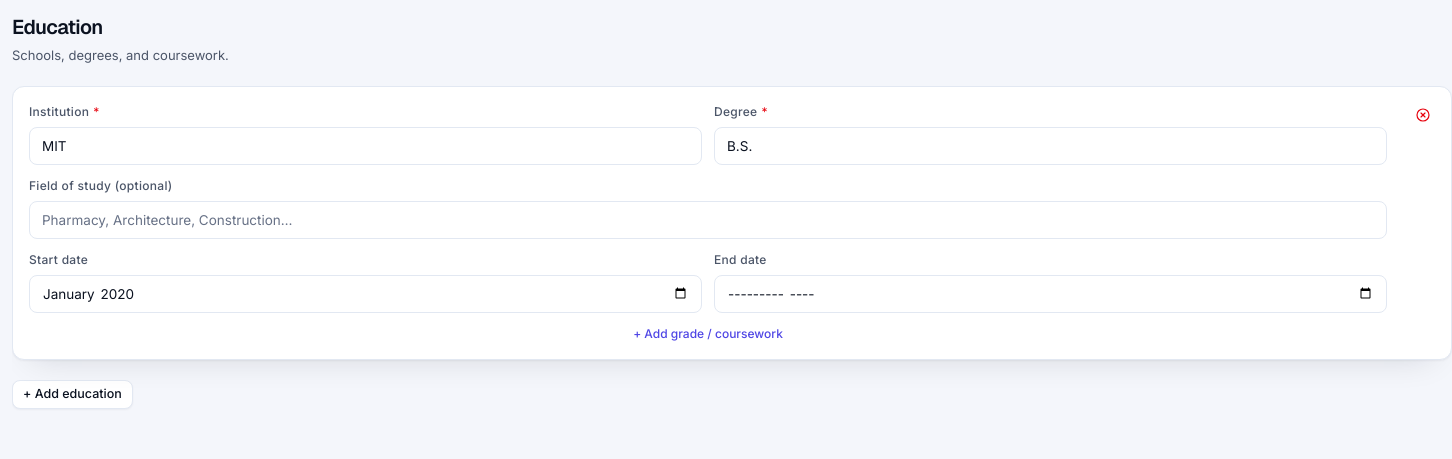
Test: EducationForm › offers field-of-study suggestions across industries
The width and height of the screenshot is (1452, 459).
Click the dropdown with placeholder "Pharmacy, Architecture, Construction…" at (708, 220), box [29,201,1387,239]
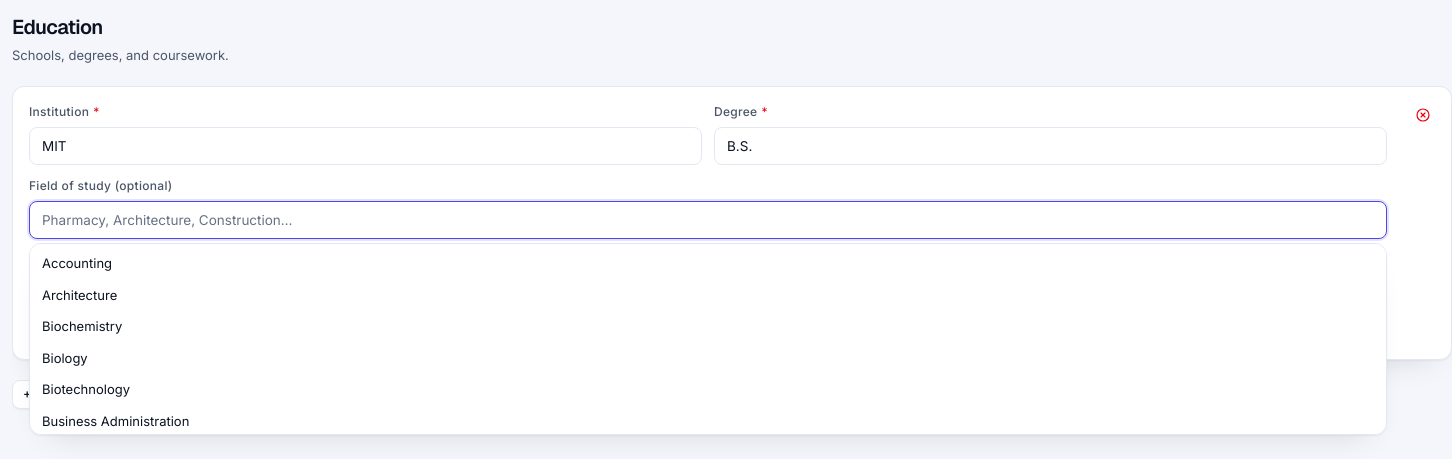
Result: the option "Architecture" is shown at [42,286,117,302]
